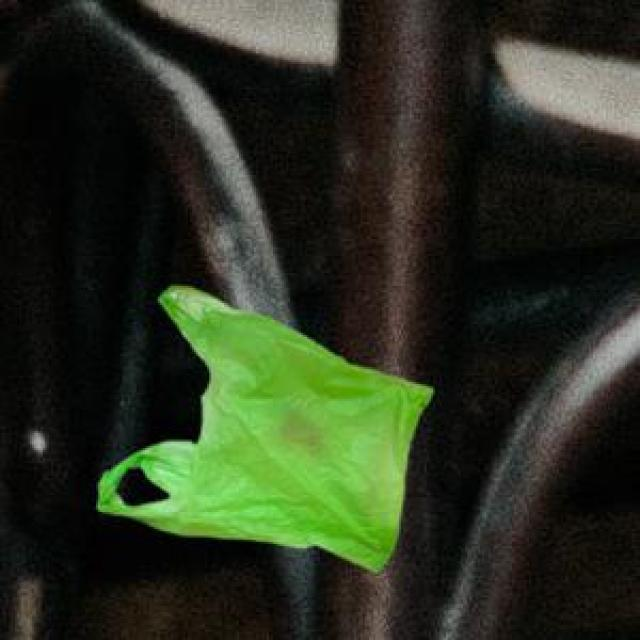waste: (98, 290, 434, 572)
